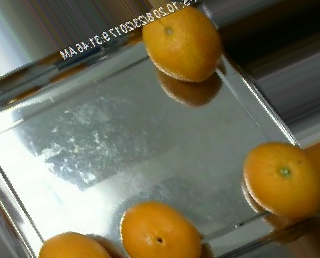Orange: (142, 4, 222, 82), (242, 140, 319, 217), (120, 201, 202, 258)
